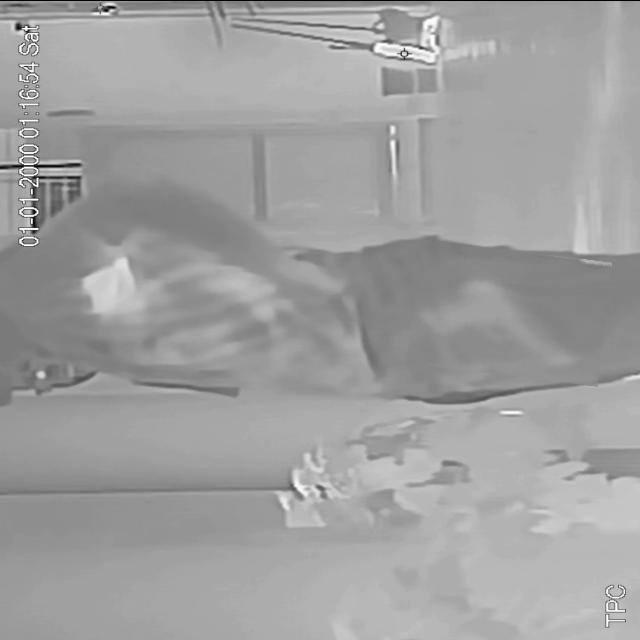Weapon: (410, 244, 609, 380)
